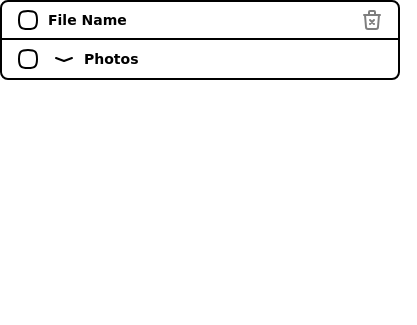
Test: FileList › starts a top-level folder with more than five children collapsed
Click the button named "Expand Photos". click: (64, 59)
box: [48, 43, 80, 75]
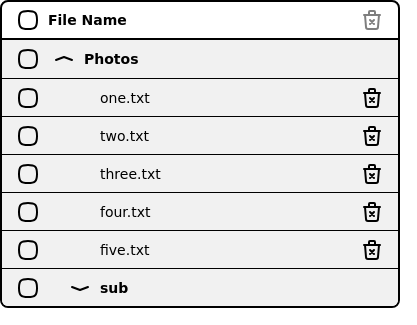
Result: the button named "Collapse Photos" is expanded at [48, 43, 80, 75]
